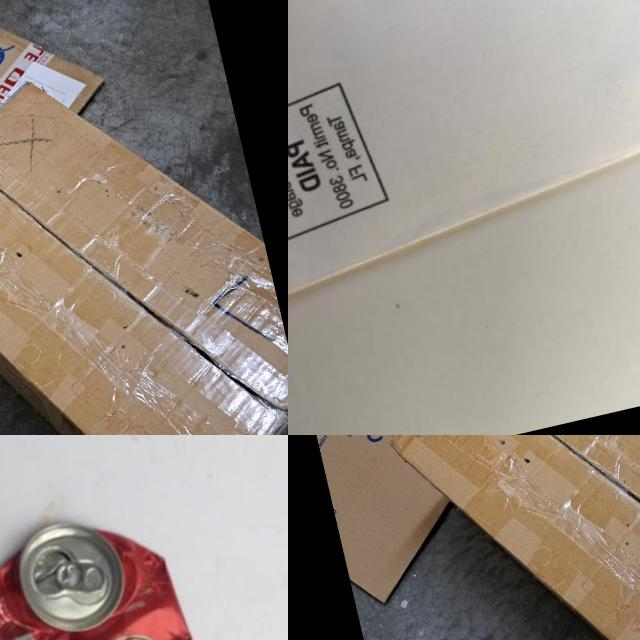aba de lata: (50, 553, 107, 598)
lata: (0, 495, 213, 640)
papel: (288, 0, 640, 339)
papelão: (0, 36, 288, 435), (0, 0, 162, 419), (288, 435, 640, 614), (364, 435, 640, 640)
